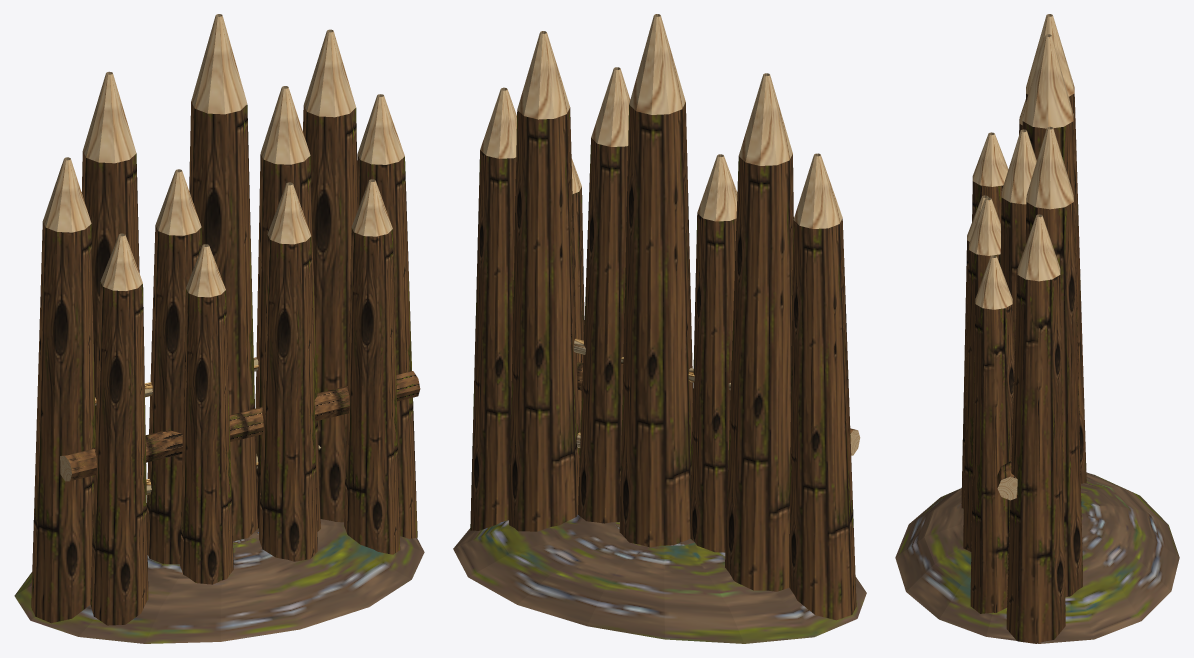
Rendered from wood_wall.obj.
3 views of the same model, side by side, from view 1: azimuth 30°, elevation 25°; view 2: azimuth 150°, elevation 25°; view 3: azimuth 270°, elevation 25° (orthographic). The views are drawn at different scales.
Parts seen in each view (by area): view 1: WoodWall; view 2: WoodWall; view 3: WoodWall.
Boxes of the visible parts, x1=… form: WoodWall: x1=14, y1=14, x2=424, y2=643; WoodWall: x1=453, y1=14, x2=866, y2=643; WoodWall: x1=895, y1=14, x2=1179, y2=643.
Size of the model in its own units: 1.01 by 1.4 by 0.6912.
1 material, 1 textured.
